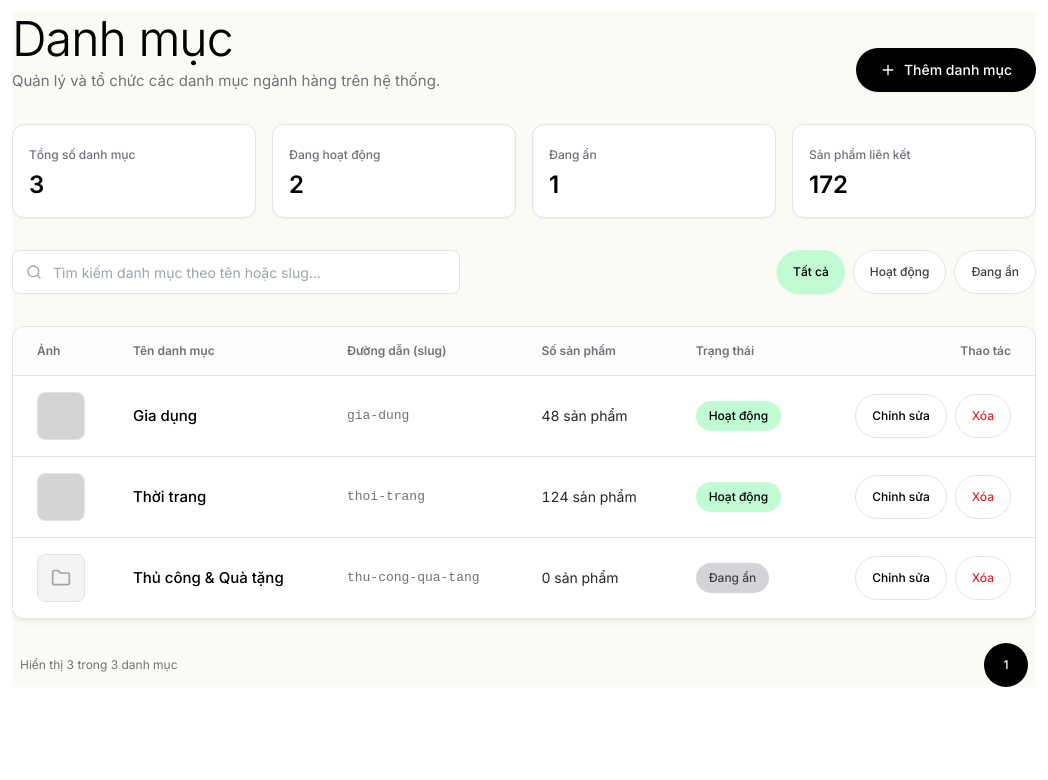
Test: AdminCategoryPage (Stitch Screen 1 & DESIGN.md) › filters categories by status chips and updates aria-pressed
# Filter Active
What coordinates should you click on to do the following:
click the button "Hoạt động"
I would click on:
 (900, 272)
Its box is [853,250,946,294].
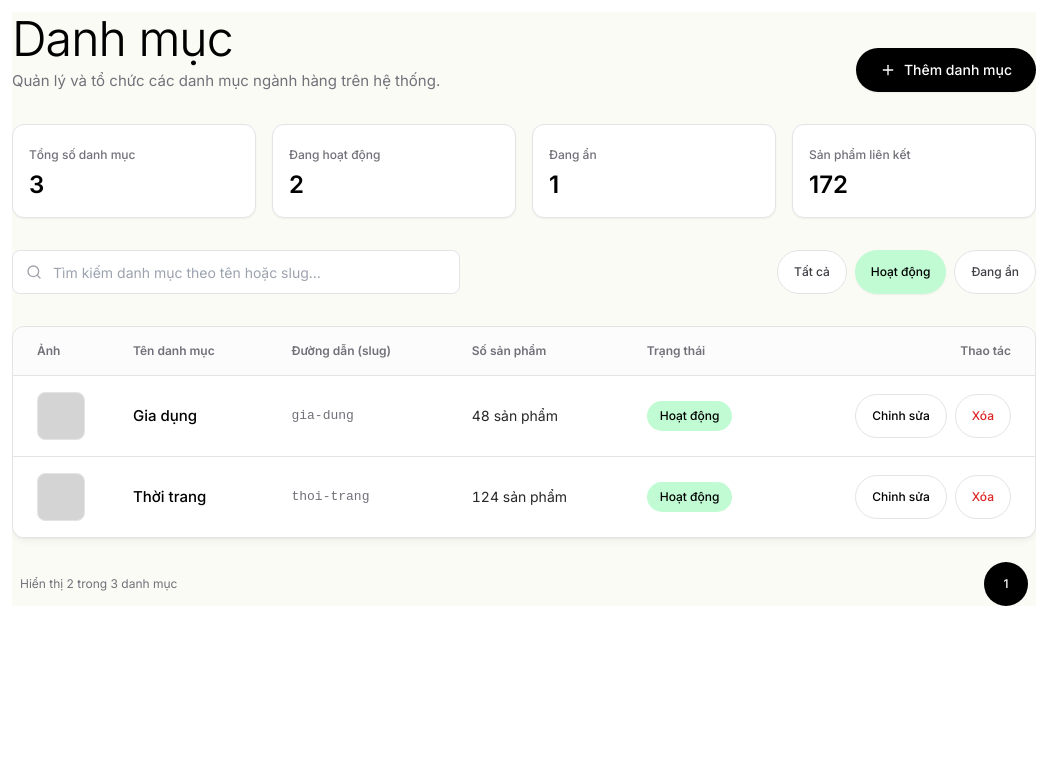
Expected: the text "Gia dụng" is shown, [109,375,267,456]
Expected: the text "Thủ công & Quà tặng" is gone
# Filter Hidden
What coordinates should you click on to do the following:
click the button "Đang ẩn"
I would click on:
 (995, 272)
Its box is [954,250,1036,294].
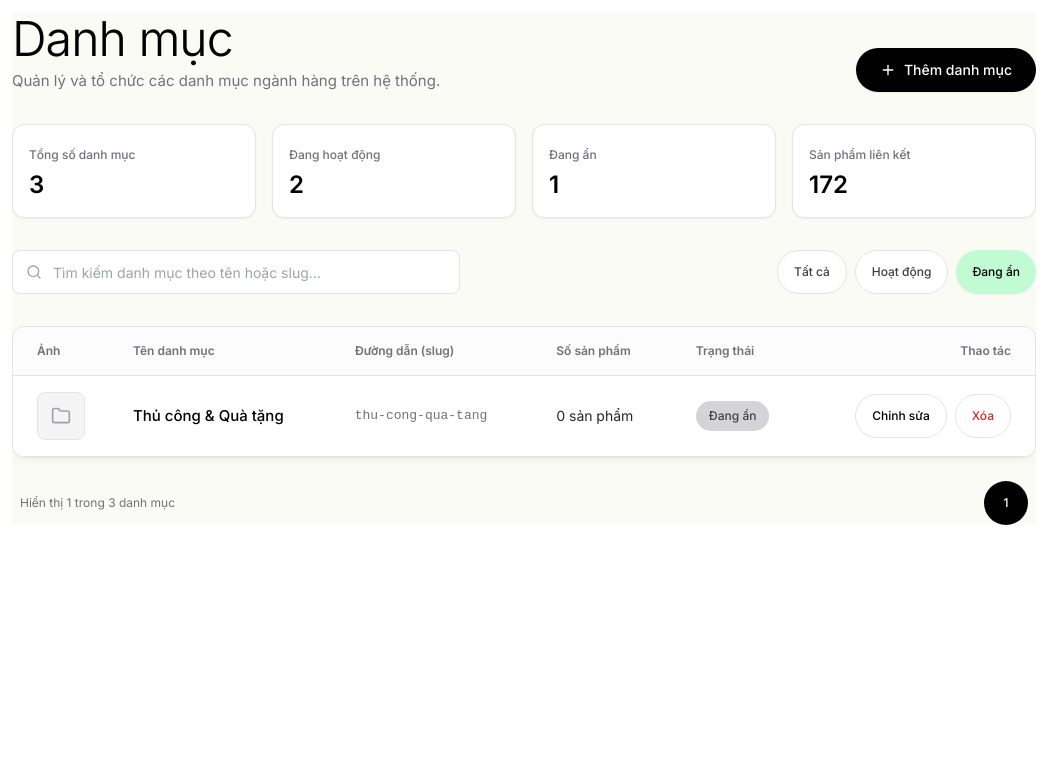
Expected: the text "Gia dụng" is gone
Expected: the text "Thời trang" is gone
Expected: the text "Thủ công & Quà tặng" is shown, [109,375,331,456]
# Reset to All
What coordinates should you click on to do the following:
click the button "Tất cả"
I would click on:
 (812, 272)
Its box is [777,250,847,294].
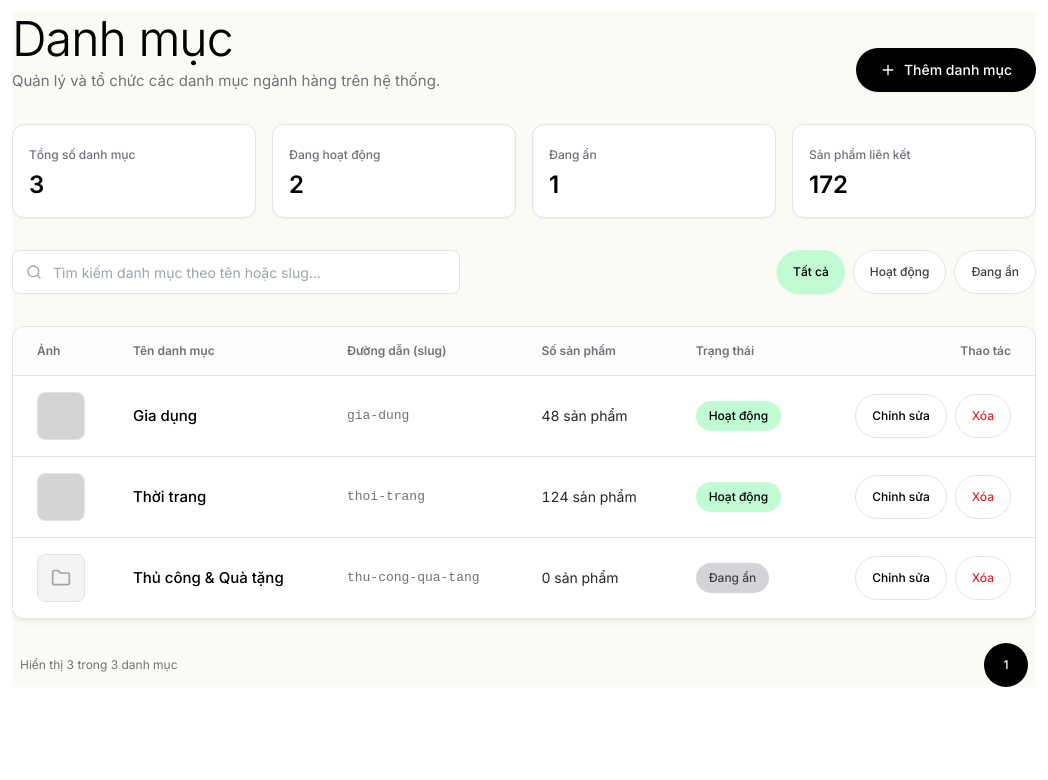
Expected: the text "Thủ công & Quà tặng" is shown, [109,537,323,618]
Expected: the text "Gia dụng" is shown, [109,375,323,456]
